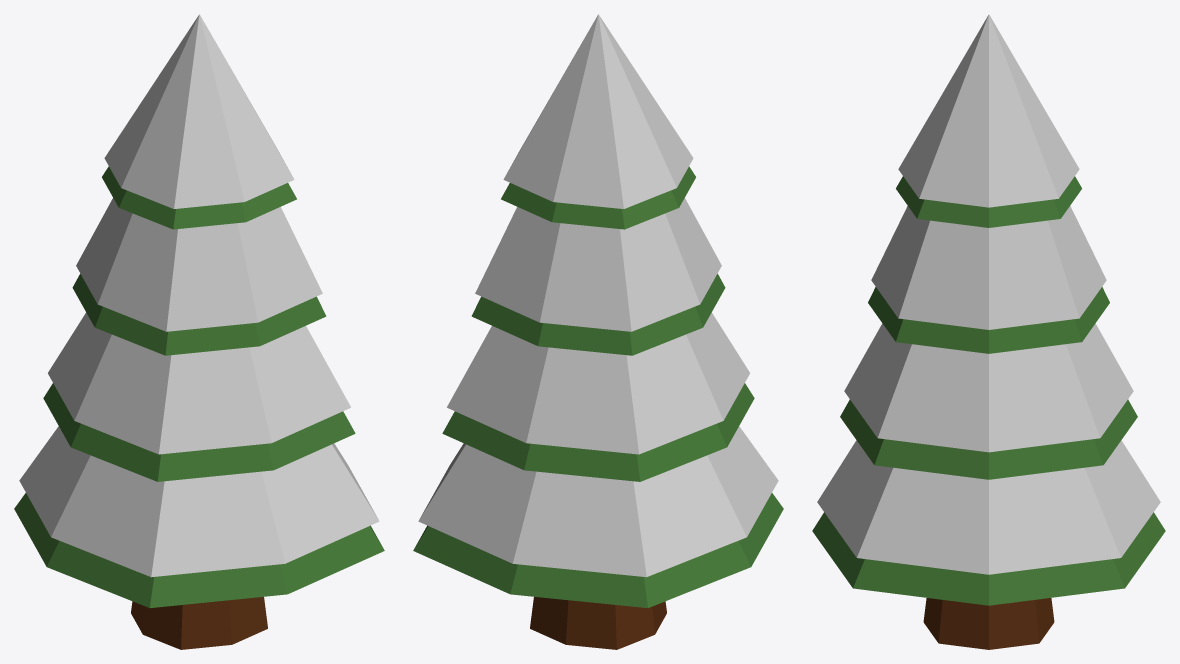
The model's file is christmas tree001.fbx.
The picture shows the model from 3 angles, left to right: view 1: azimuth 30°, elevation 25°; view 2: azimuth 150°, elevation 25°; view 3: azimuth 270°, elevation 25°; orthographic projection.
Visible parts, largest first — view 1: Cube; view 2: Cube; view 3: Cube.
Boxes of the visible parts, left/top/right/bottom form: Cube: left=14, top=14, right=384, bottom=649; Cube: left=413, top=14, right=783, bottom=649; Cube: left=812, top=14, right=1165, bottom=649.
Bounding box in the file's own units: 702 × 1332 × 702.
